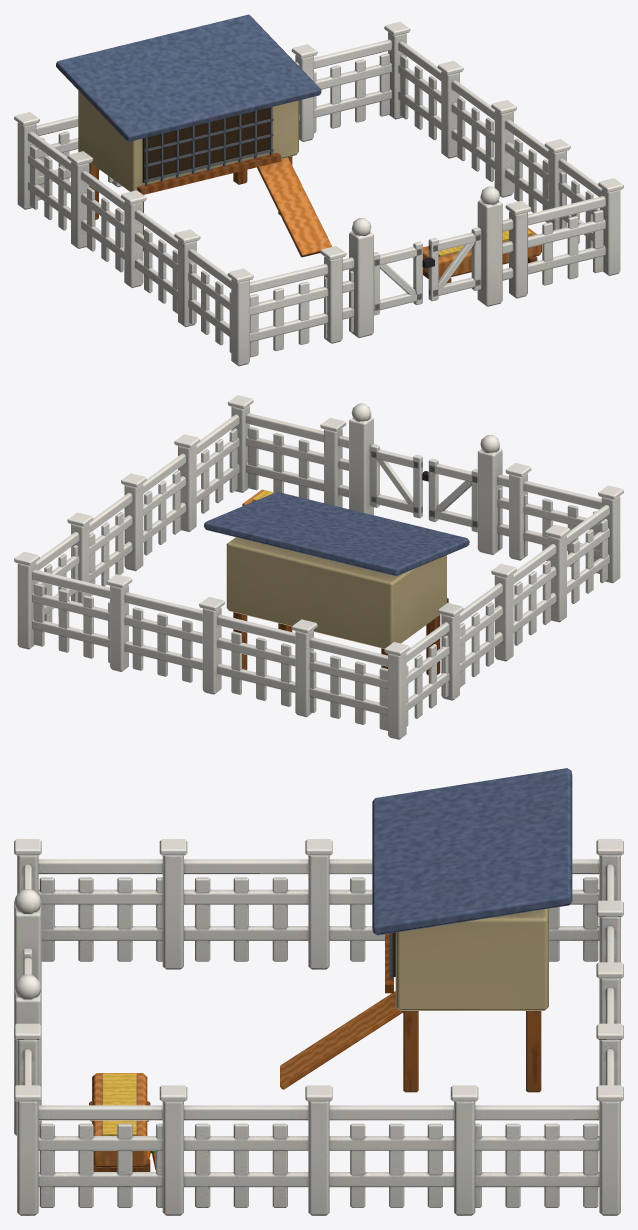
File: chinchilla_hutch.glb
The picture shows the model from 3 angles, top to bottom: view 1: azimuth 30°, elevation 25°; view 2: azimuth 150°, elevation 25°; view 3: azimuth 270°, elevation 25°; orthographic projection. The views are drawn at different scales.
Parts seen in each view (by area): view 1: chinchilla_hutch; view 2: chinchilla_hutch; view 3: chinchilla_hutch.
Part boxes in pixels (x1,y1,x2,y2): chinchilla_hutch: (14, 14, 623, 366); chinchilla_hutch: (14, 395, 623, 739); chinchilla_hutch: (14, 768, 623, 1215).
Size of the model in its own units: 1.99 by 0.7573 by 1.99.
1 material, 1 textured.
